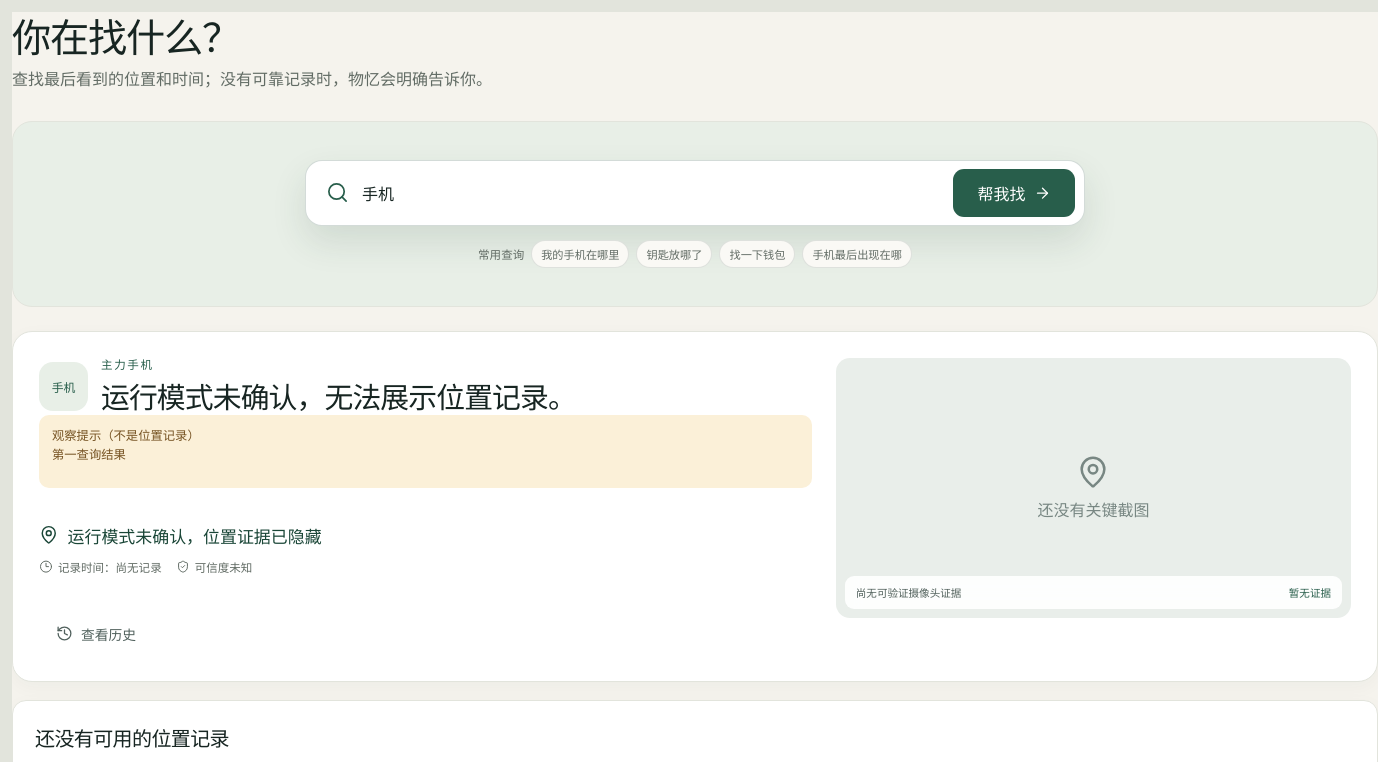
Test: 搜索刷新Mock契约，不证明实物识别 › 新查询完成后旧位置GET晚到不会覆盖新结果
Replace the text in the field named "寻找物品" with "新的查询" at (651, 193), box [349, 169, 953, 217]
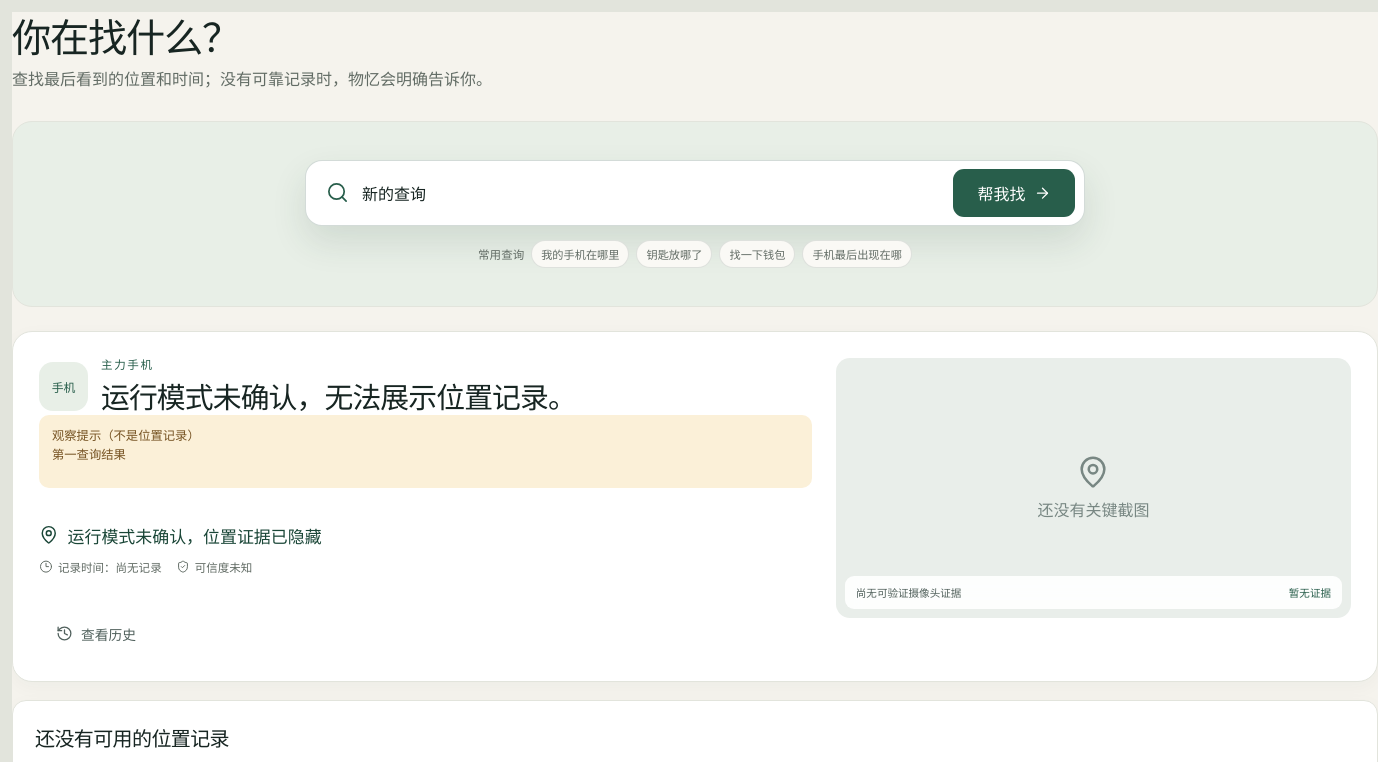
Click the button "帮我找" at (1014, 193), box [953, 169, 1075, 217]
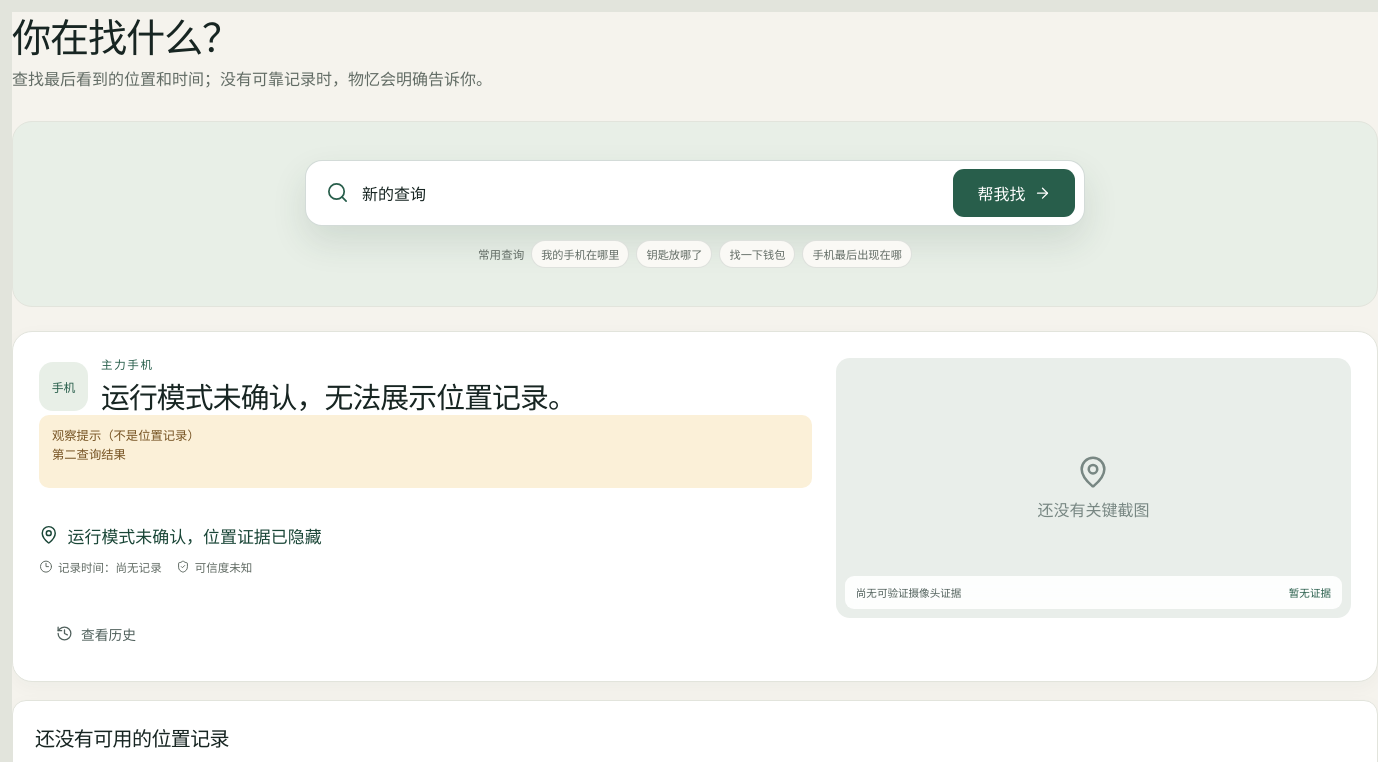
Expected: the text "第二查询结果" is shown, [52, 446, 126, 463]
